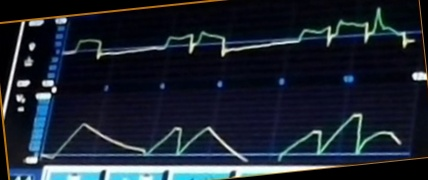Double_Triggering Flow: (70, 7, 416, 60)
Double_Triggering Volume: (80, 98, 402, 162)
